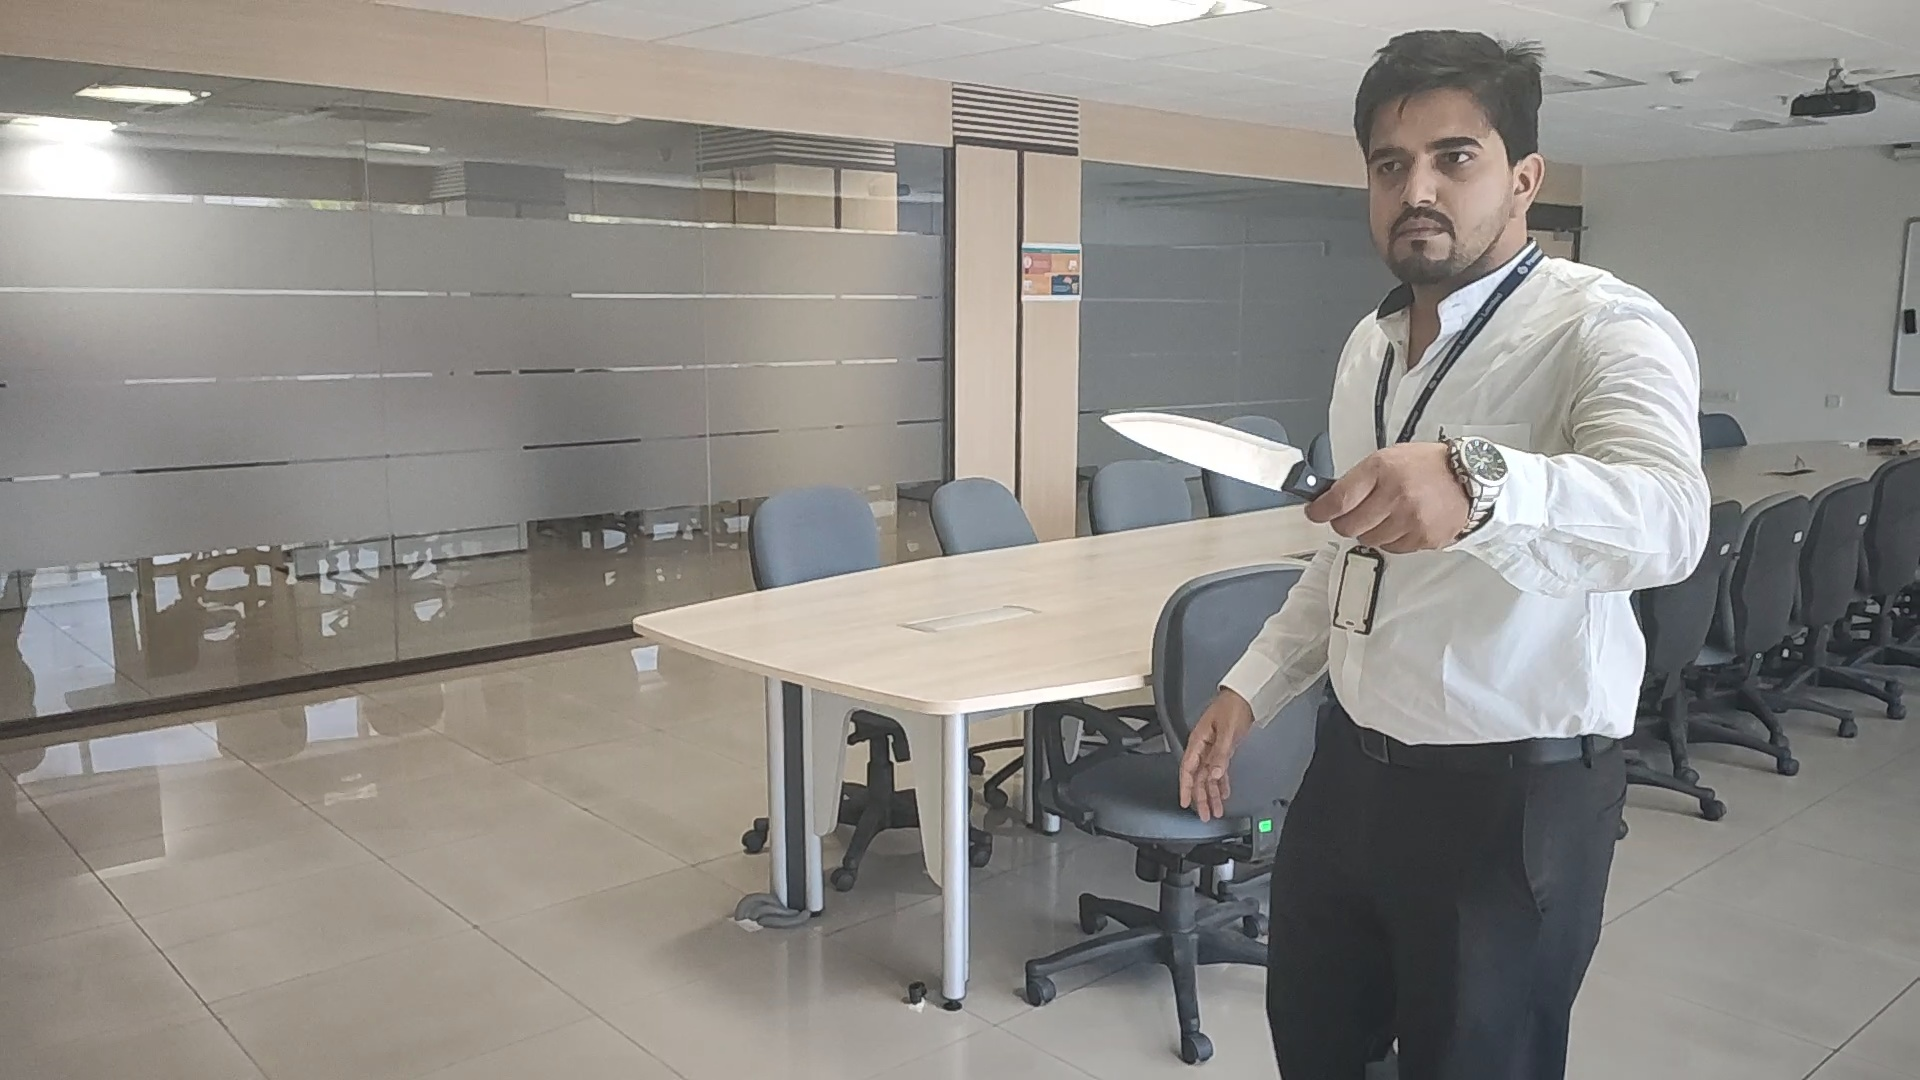knife: (1098, 407, 1333, 496)
